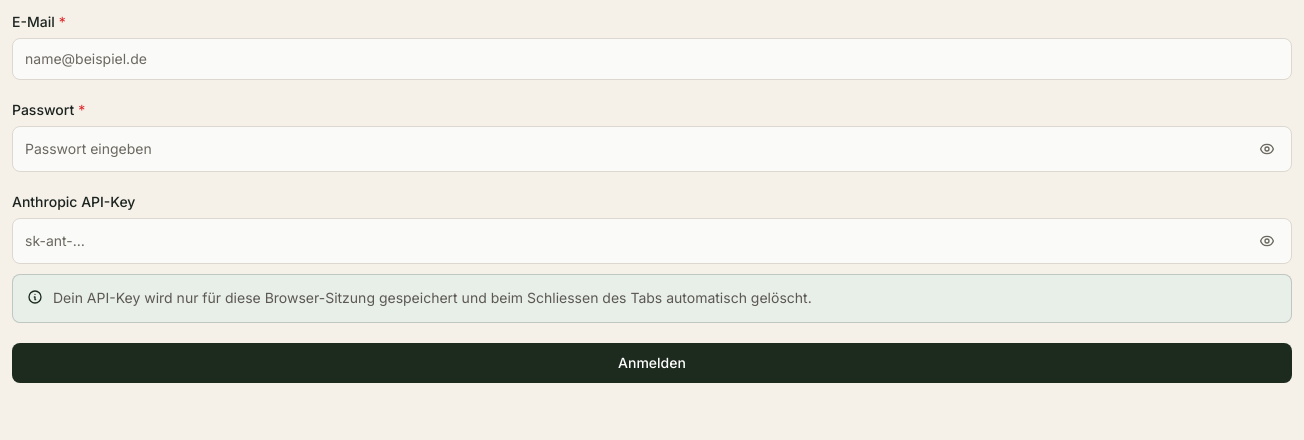
Test case: LoginForm — Fehlerbehandlung › zeigt Konfigurationsfehler wenn Env-Vars fehlen
Type "test@example.com" into the field labelled "E-Mail".
click(652, 59); type("test@example.com")  # box 12,38 -> 1292,80
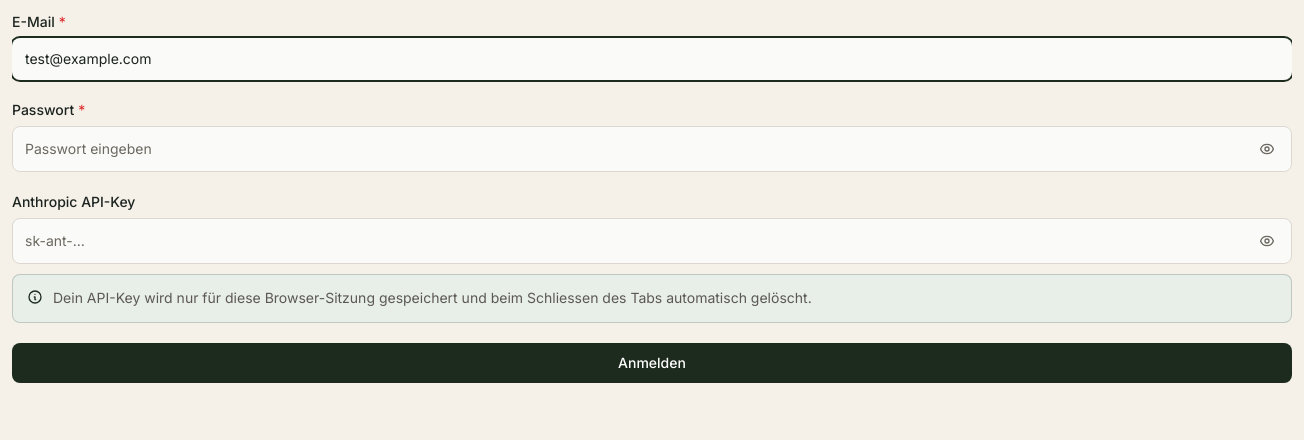
Type "test" into the password field labelled "Passwort".
click(630, 149); type("test")  # box 13,129 -> 1247,169
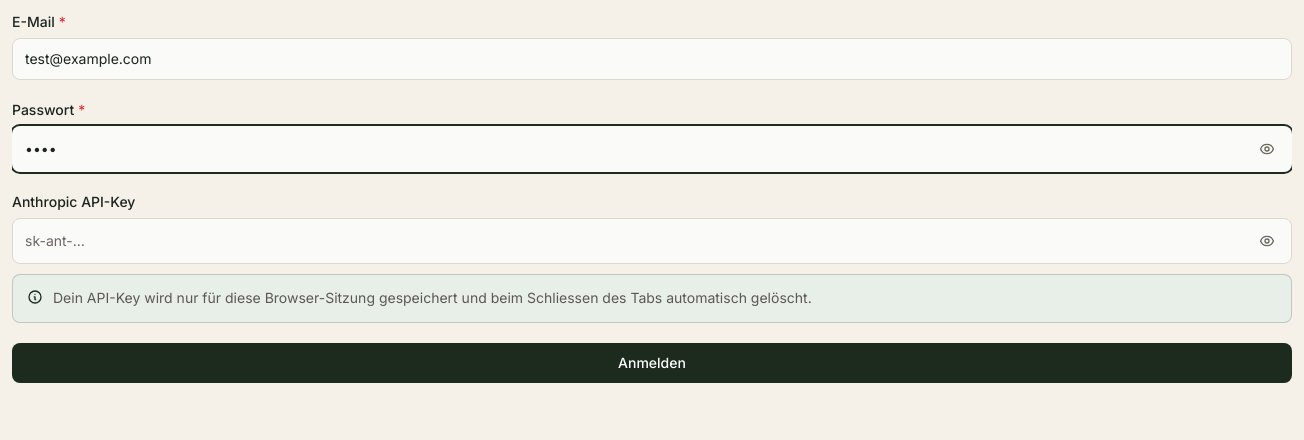
Click the button "Anmelden".
click(652, 363)  # box 12,343 -> 1292,383
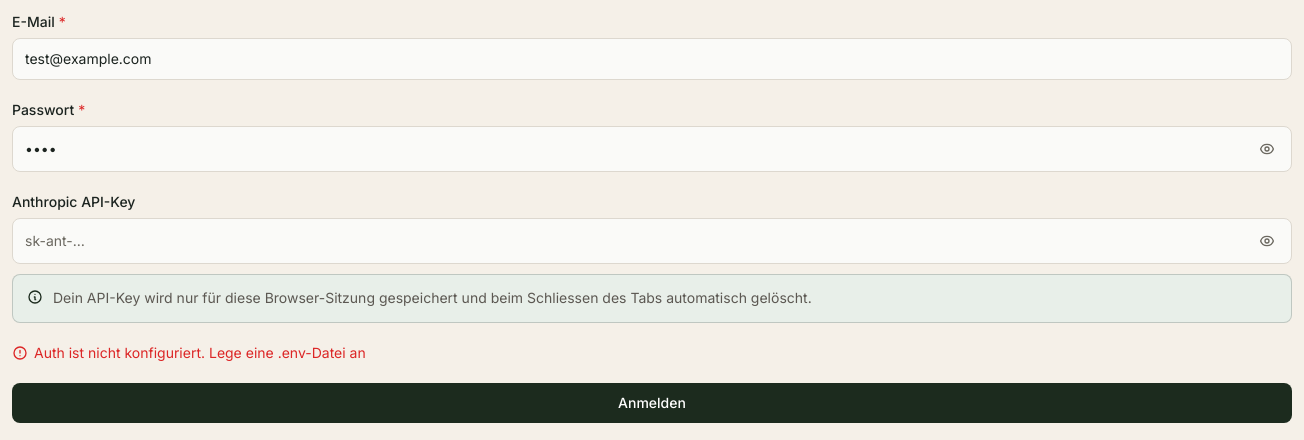
expect the message "Auth ist nicht konfiguriert. Lege eine .env-Datei an" is shown: met, box 12,344 -> 366,361
